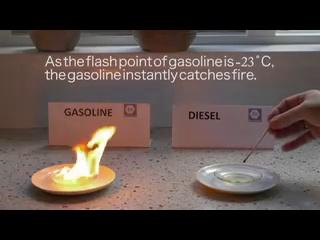Fire: (53, 143, 124, 182)
